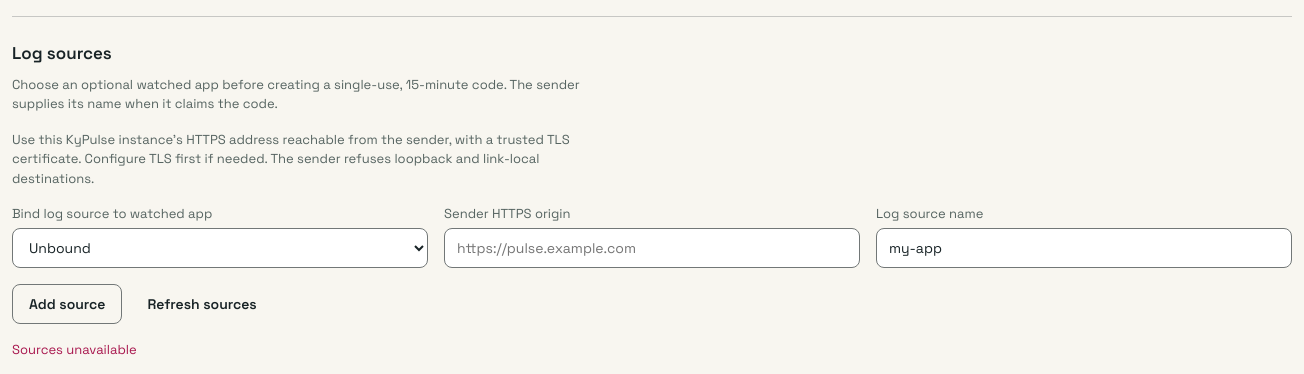
Scenario: retries source-list errors
The image size is (1304, 374).
Expected: the text "Sources unavailable" is shown, [12,340,137,358]
Step 1. Click the button "Refresh sources" → (202, 304), box [130,284,274,324]
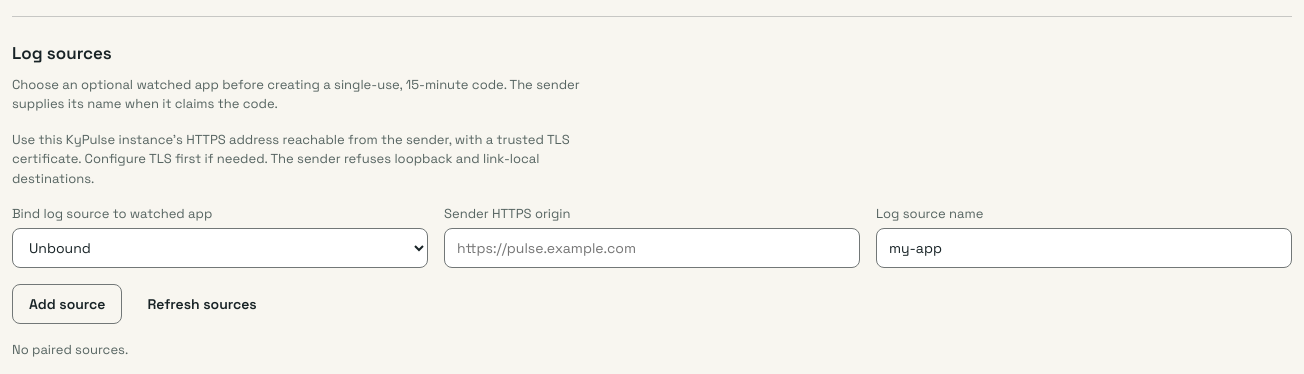
Expected: the text "Sources unavailable" is gone
